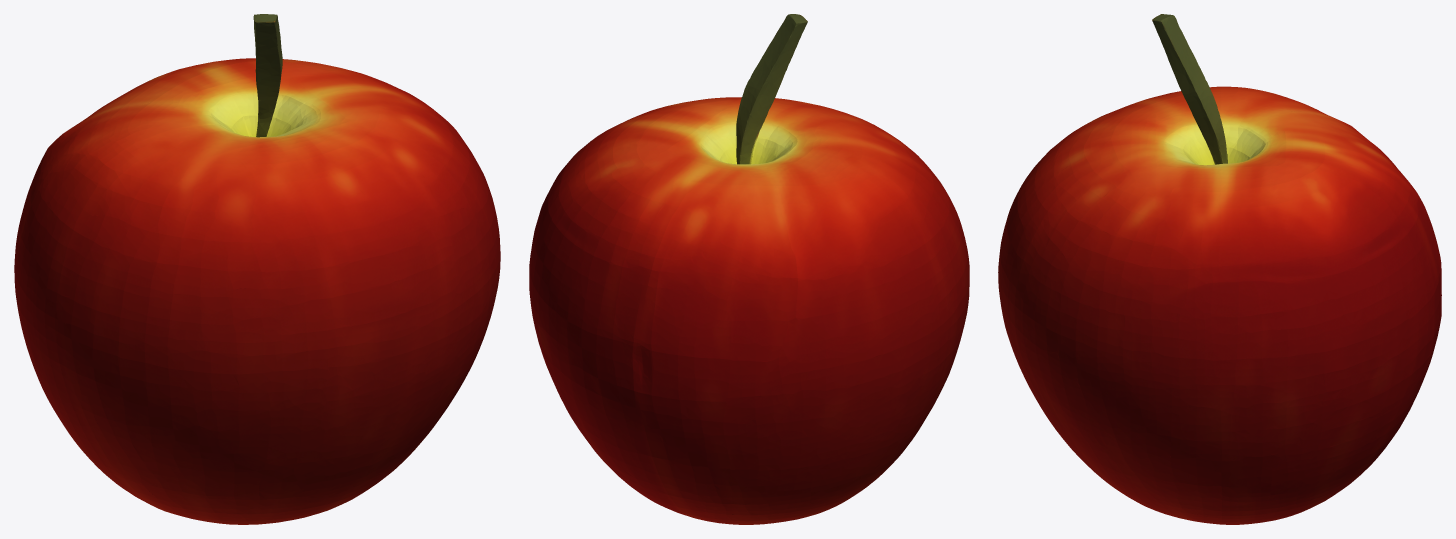
The model's file is apple.glb.
3 views of the same model, side by side, from view 1: azimuth 30°, elevation 25°; view 2: azimuth 150°, elevation 25°; view 3: azimuth 270°, elevation 25° (orthographic). The views are drawn at different scales.
Visible parts, largest first — view 1: world; view 2: world; view 3: world.
Boxes of the visible parts, box(x1,y1,x2,y2) form: world: box(14, 14, 500, 524); world: box(529, 14, 969, 524); world: box(998, 14, 1441, 524).
Bounding box in the file's own units: 0.8675 × 0.9901 × 0.852.
1 material, 1 textured.
